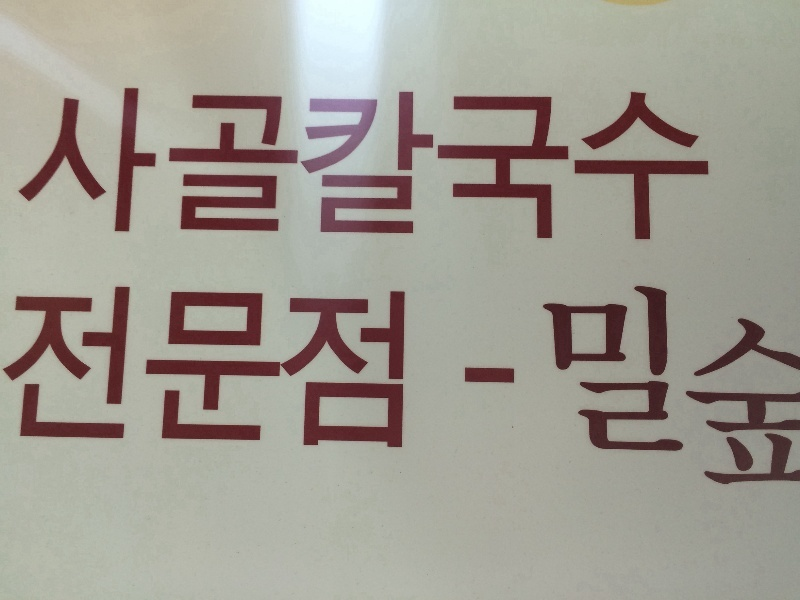text: (17, 286, 32, 490), (33, 286, 48, 490), (49, 286, 64, 490), (65, 286, 80, 490), (81, 286, 96, 490), (97, 286, 112, 490), (113, 286, 128, 490), (129, 286, 144, 490), (145, 286, 160, 490), (161, 286, 176, 490), (177, 286, 192, 490), (193, 286, 208, 490), (209, 286, 224, 490), (225, 286, 240, 490), (241, 286, 256, 490), (257, 286, 272, 490), (273, 286, 288, 490), (289, 286, 304, 490), (305, 286, 320, 490), (321, 286, 336, 490), (337, 286, 352, 490), (353, 286, 368, 490), (369, 286, 384, 490), (385, 286, 400, 490), (401, 286, 416, 490), (417, 286, 432, 490), (433, 286, 448, 490), (449, 286, 464, 490), (465, 286, 480, 490), (481, 286, 496, 490), (497, 286, 512, 490), (513, 286, 528, 490), (529, 286, 544, 490), (545, 286, 560, 490), (561, 286, 576, 490), (577, 286, 592, 490), (593, 286, 608, 490), (609, 286, 624, 490), (625, 286, 640, 490), (641, 286, 656, 490), (657, 286, 672, 490), (673, 286, 688, 490), (689, 286, 704, 490), (705, 286, 720, 490), (721, 286, 736, 490), (737, 286, 752, 490), (753, 286, 768, 490), (769, 286, 784, 490), (785, 286, 800, 490), (33, 87, 48, 243), (49, 87, 64, 243), (65, 87, 80, 243), (81, 87, 96, 243), (97, 87, 112, 243), (113, 87, 128, 243), (129, 87, 144, 243), (145, 87, 160, 243), (161, 87, 176, 243), (177, 87, 192, 243), (193, 87, 208, 243), (209, 87, 224, 243), (225, 87, 240, 243), (241, 87, 256, 243), (257, 87, 272, 243), (273, 87, 288, 243), (289, 87, 304, 243), (305, 87, 320, 243), (321, 87, 336, 243), (337, 87, 352, 243), (353, 87, 368, 243), (369, 87, 384, 243), (385, 87, 400, 243), (401, 87, 416, 243), (417, 87, 432, 243), (433, 87, 448, 243), (449, 87, 464, 243), (465, 87, 480, 243), (481, 87, 496, 243), (497, 87, 512, 243), (513, 87, 528, 243), (529, 87, 544, 243), (545, 87, 560, 243), (561, 87, 576, 243), (577, 87, 592, 243), (593, 87, 608, 243), (609, 87, 624, 243), (625, 87, 640, 243), (641, 87, 656, 243), (657, 87, 672, 243), (673, 87, 688, 243), (689, 87, 704, 243), (5, 286, 16, 490), (21, 87, 32, 243), (705, 87, 712, 243)
